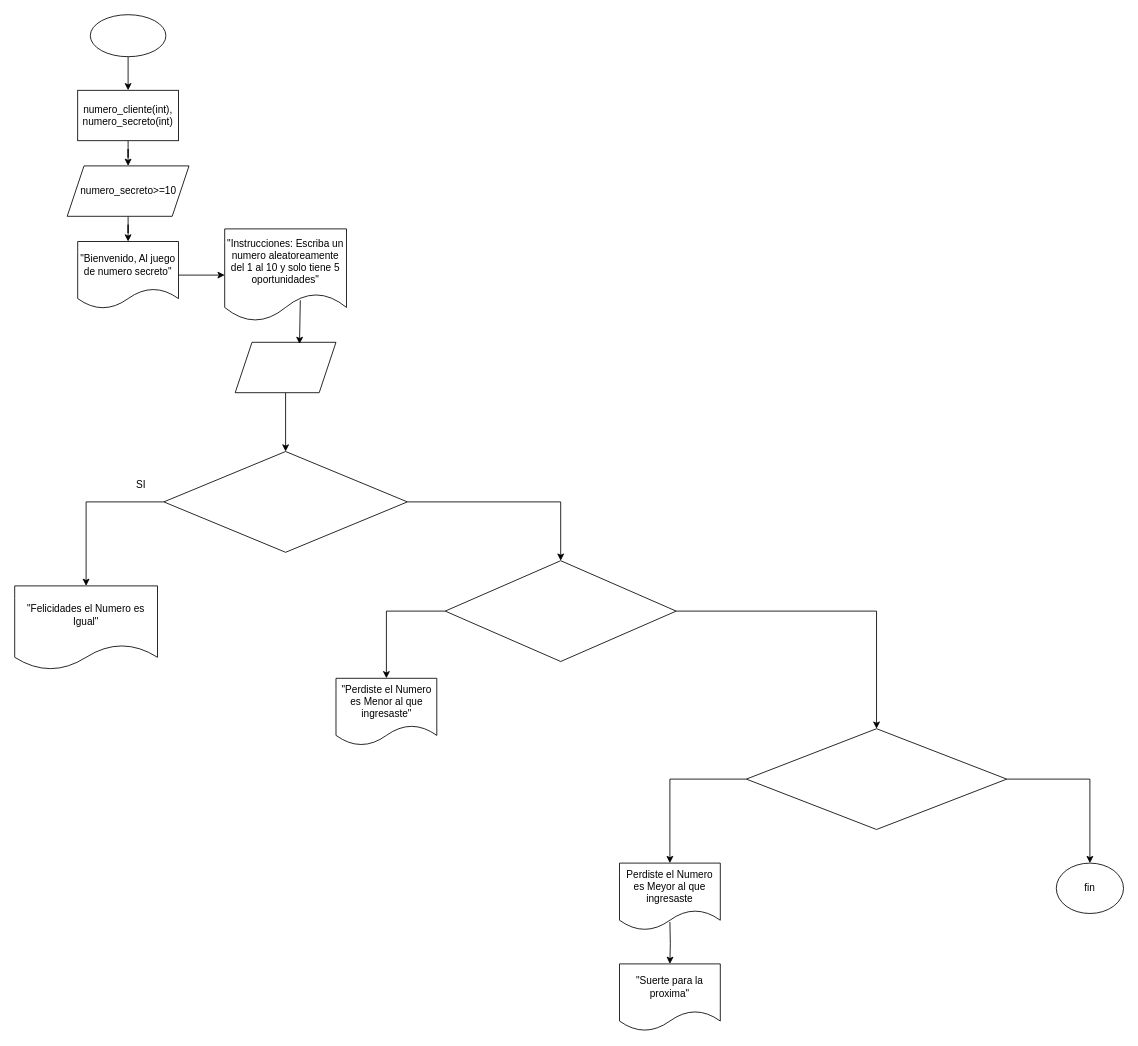
The diagram is 1138 pixels wide and 1046 high, and some of its shapes have lost their labels. Here are the shapes that lost their labels. From the top down, the centre of each, then its label:
At pixel 127 35: "inicio".
At pixel 285 367: "numero_secreto".
At pixel 285 501: "SI numero_secreto==numero_asignado".
At pixel 560 611: "SI numero_secreto<numero_asignado ENTONCES".
At pixel 876 779: "SI numero_secreto>numero_asignado ENTONCES".
